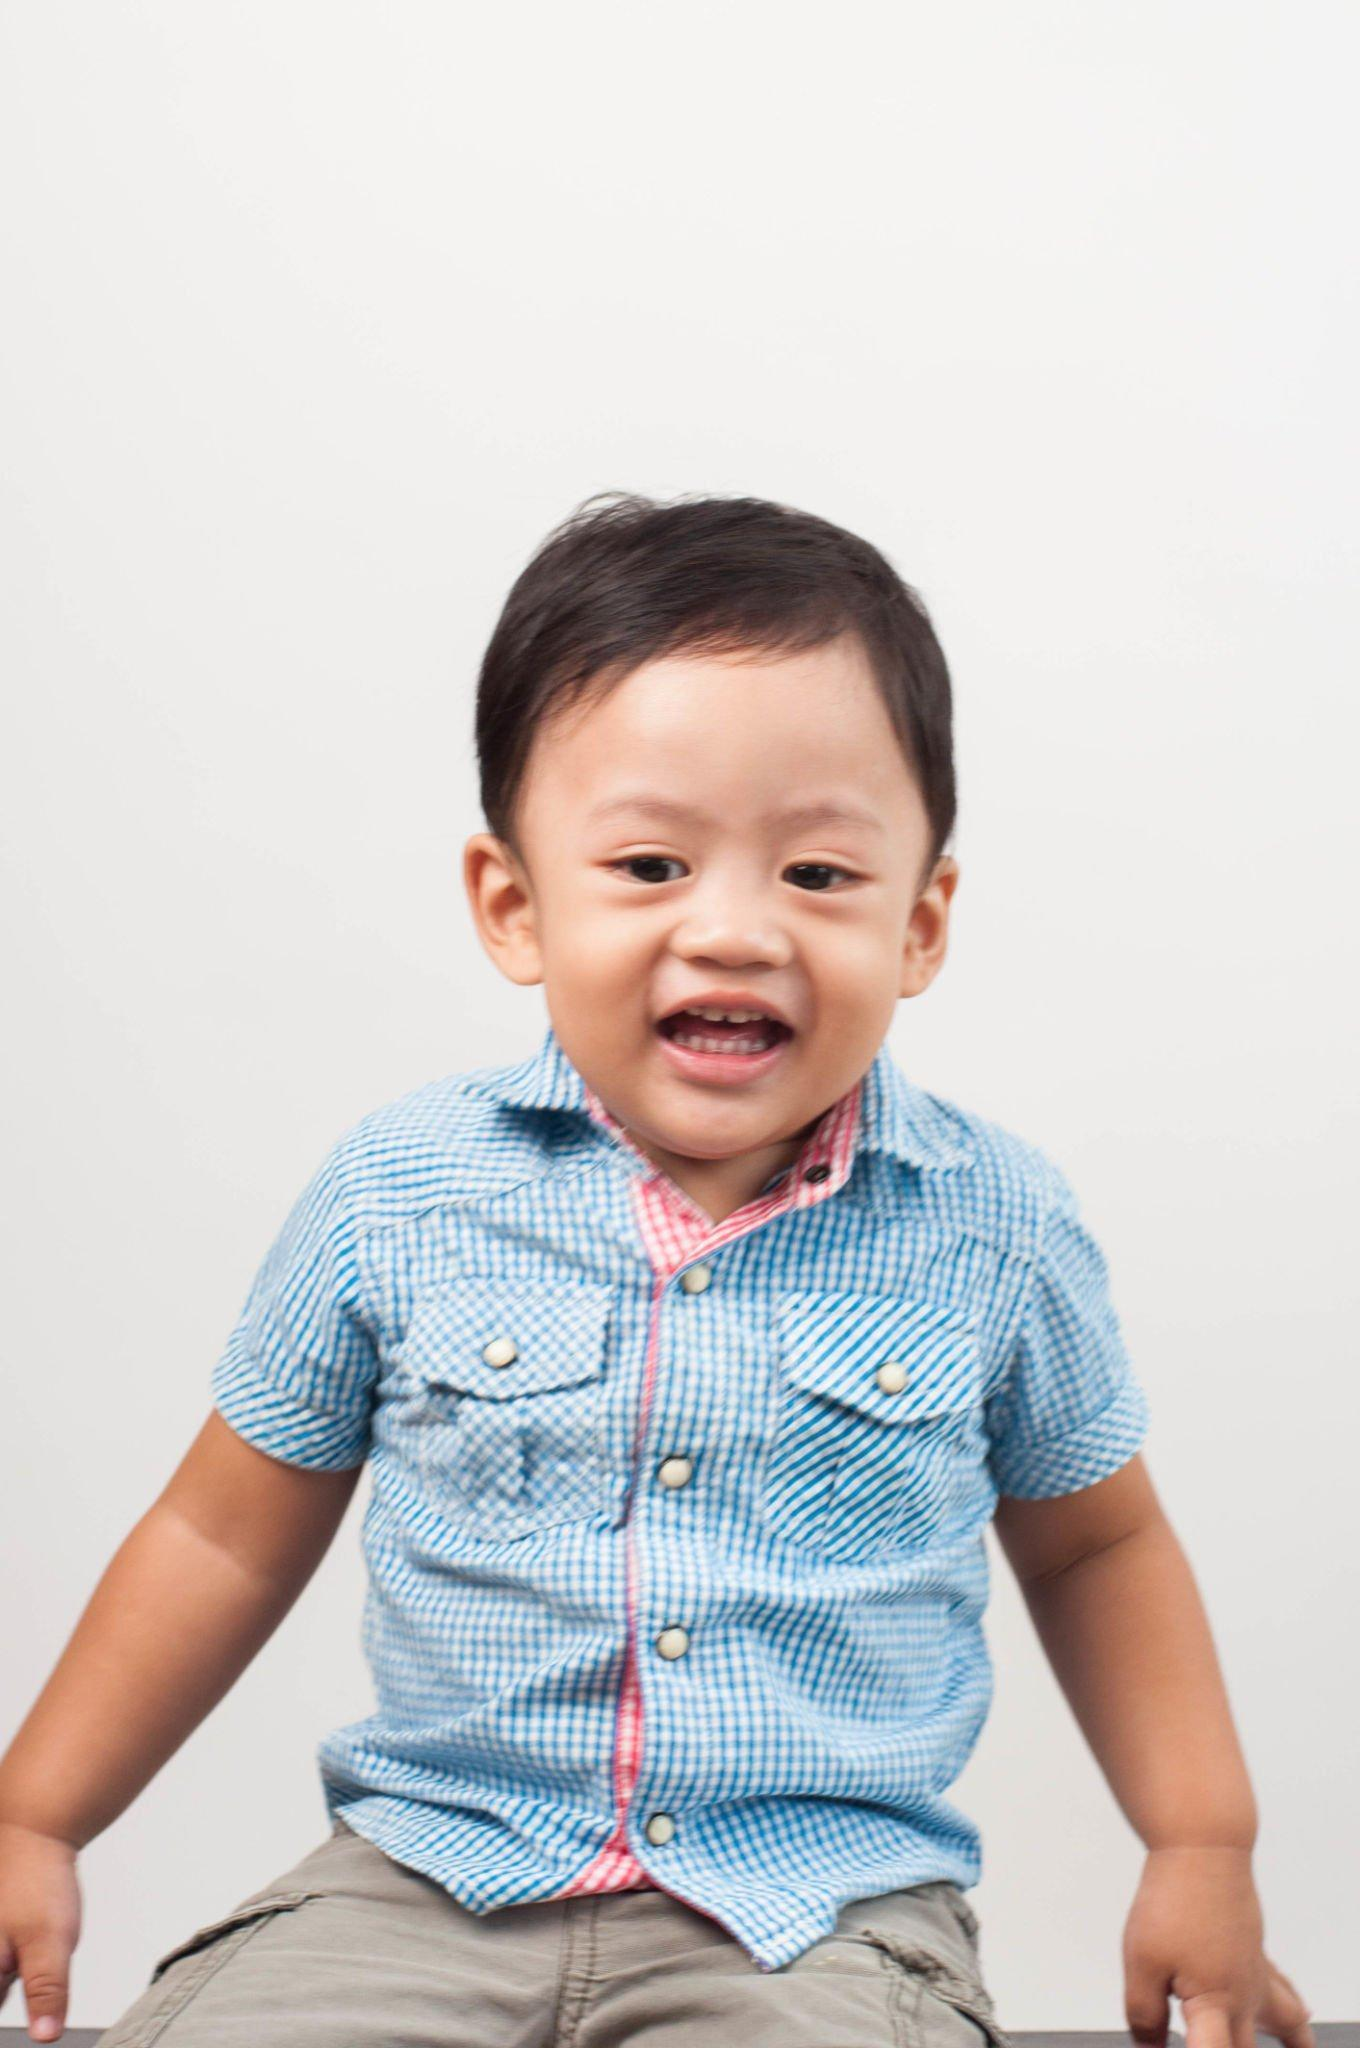Healthy: (436, 514, 981, 1179)
